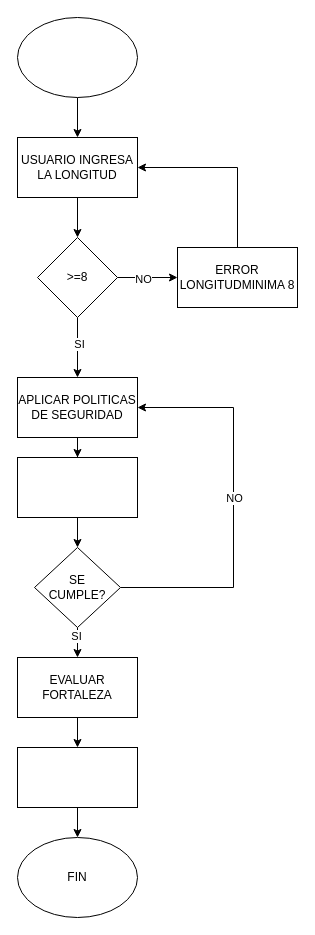
Some shapes in this 315 by 935 pixel diagram are drawn without their labels. The box of each missing label's shape, as (x1, y1, x2, y2) in pixels:
GENERAR: (16, 456, 138, 518)
INICIO: (16, 16, 138, 98)
MOSTRAR: (16, 746, 138, 808)
